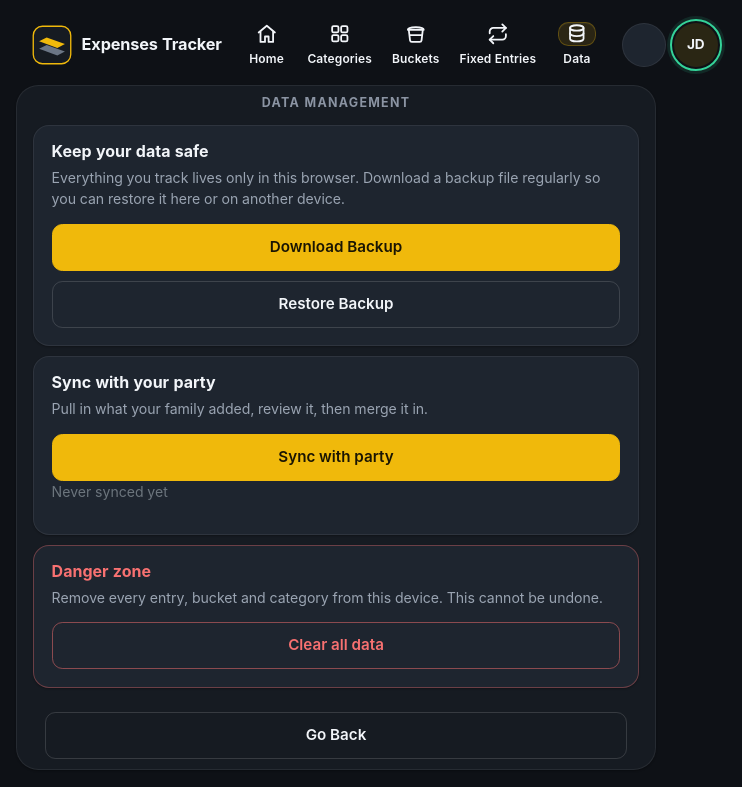
Test: bulk review actions (AC-3.5) › Accept all confirms with the remaining count and accepts everything
The image size is (742, 787).
Click the button "Sync with party" at (336, 457), box [52,434,620,481]
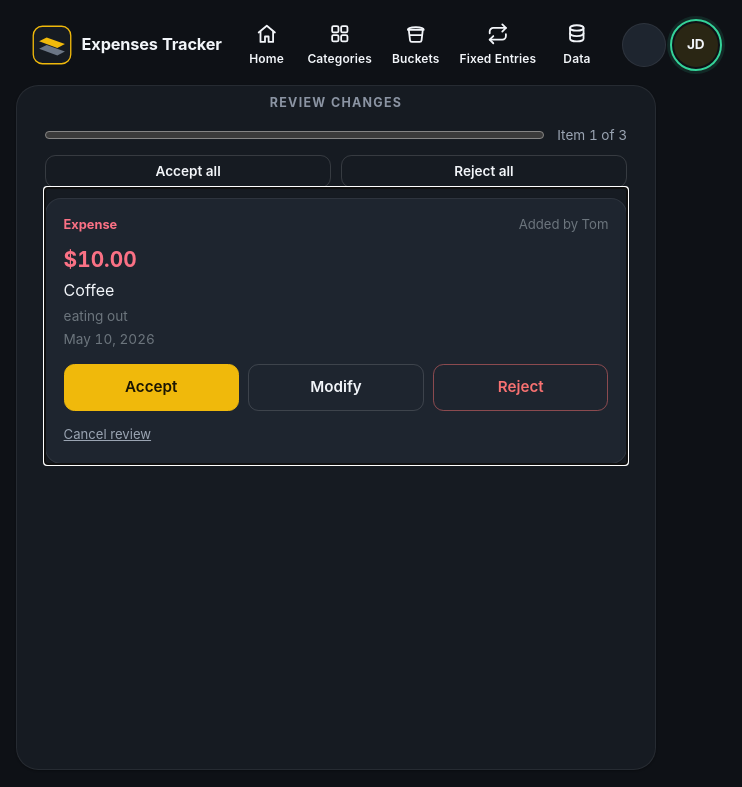
Expected: the text "Item 1 of 3" is shown, [557,125,627,146]
Click the button "Accept all" at (188, 171), box [45,155,331,188]
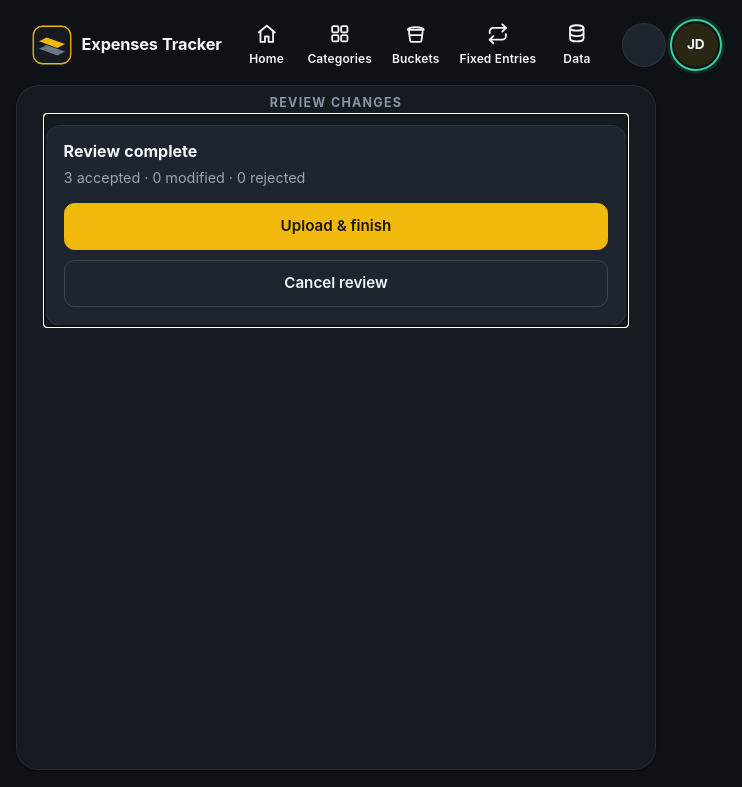
Expected: the heading "Review complete" is shown, [64,141,197,161]
Expected: the text "3 accepted · 0 modified · 0 rejected" is shown, [64,169,305,186]
